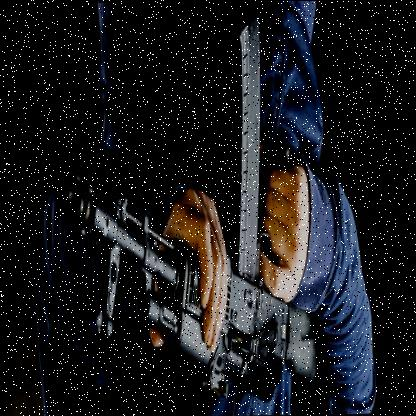rifle: (65, 25, 332, 400)
